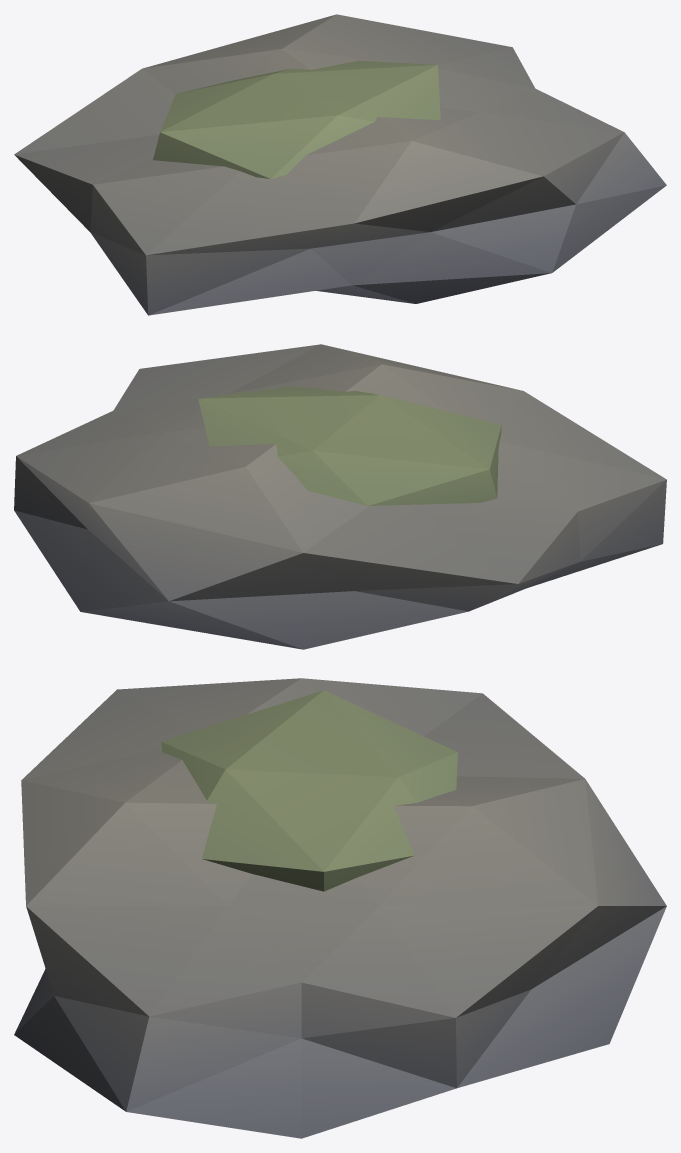
The model's file is rock_c.glb.
3 renders of one model, top to bottom at view 1: azimuth 30°, elevation 25°; view 2: azimuth 150°, elevation 25°; view 3: azimuth 270°, elevation 25°, orthographic. The views are drawn at different scales.
Visible parts, largest first — view 1: rock_c; view 2: rock_c; view 3: rock_c.
Part boxes in pixels (left/top/right/bottom): rock_c: left=14, top=14, right=666, bottom=315; rock_c: left=14, top=344, right=666, bottom=649; rock_c: left=14, top=678, right=666, bottom=1138.
Size of the model in its own units: 7.27 by 2.39 by 5.83.
Materials: 1 (1 with a texture image).
